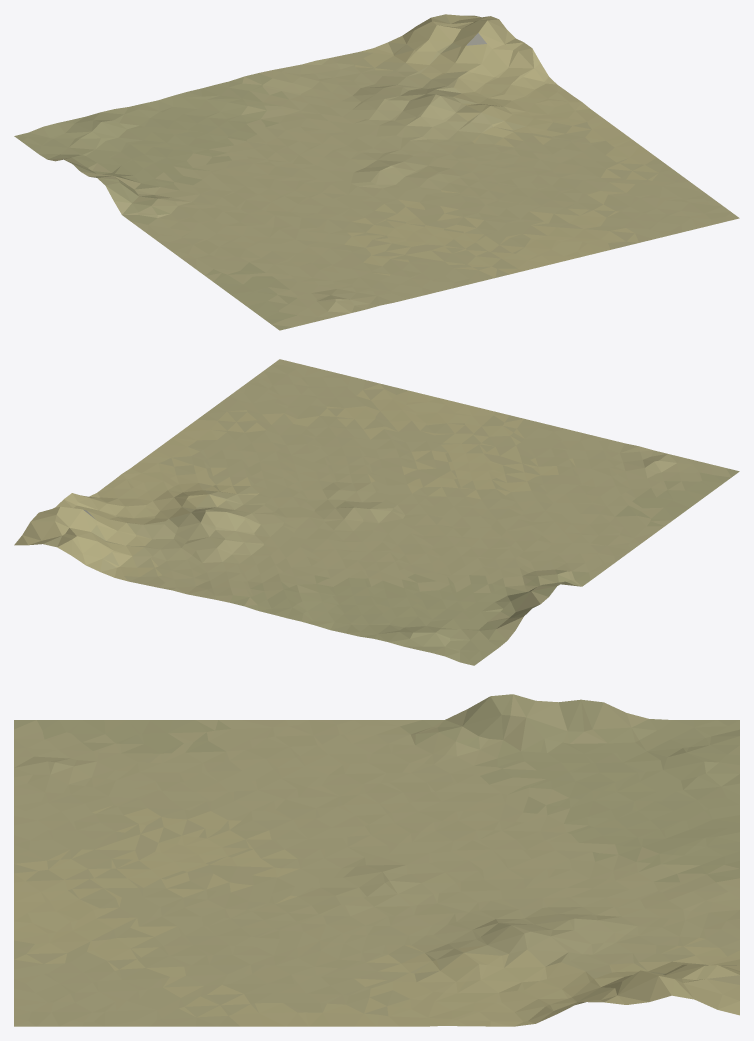
Rendered from Ground_1_-9.glb.
3 views of the same model, one above another, from view 1: azimuth 30°, elevation 25°; view 2: azimuth 150°, elevation 25°; view 3: azimuth 270°, elevation 25° (orthographic). The views are drawn at different scales.
Parts seen in each view (by area): view 1: Ground_1_-9; view 2: Ground_1_-9; view 3: Ground_1_-9.
Part boxes in pixels (x1,y1,x2,y2): Ground_1_-9: [14, 14, 739, 330]; Ground_1_-9: [14, 359, 739, 665]; Ground_1_-9: [14, 694, 739, 1026].
Bounding box in the file's own units: 768 × 46.57 × 768.
